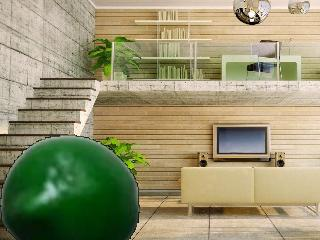lime: (2, 136, 140, 240)
